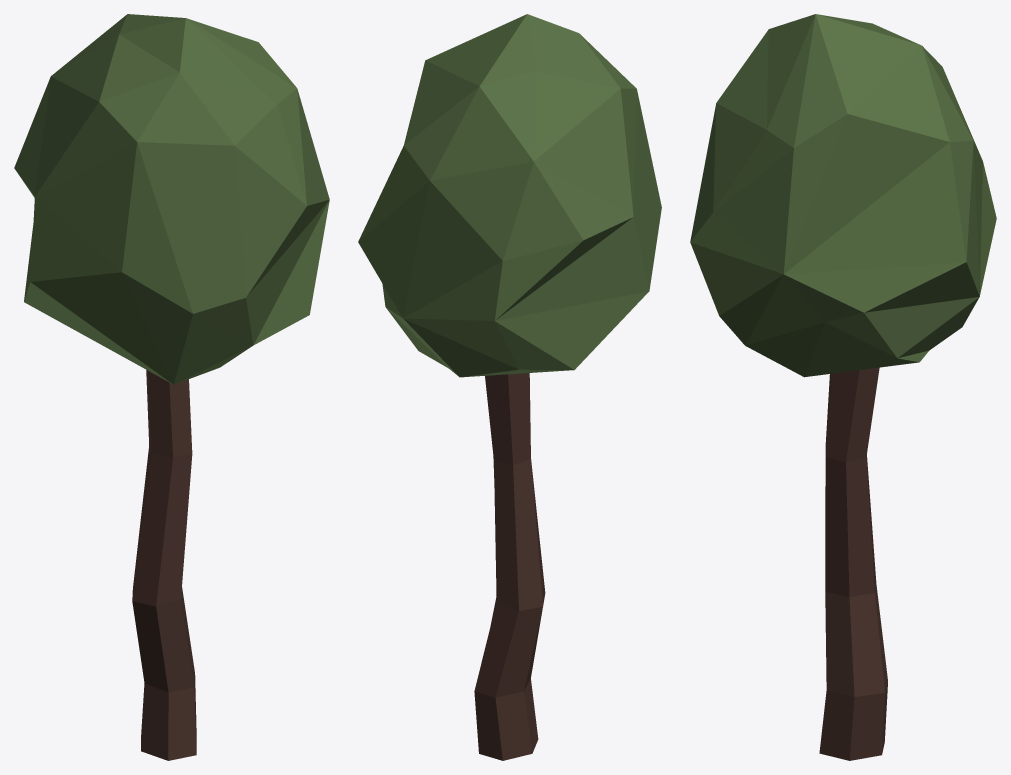
File: 3DMODELS_Enviro_ForestLevel_TallTree.fbx
3 renders of one model, left to right at view 1: azimuth 30°, elevation 25°; view 2: azimuth 150°, elevation 25°; view 3: azimuth 270°, elevation 25°, orthographic. The views are drawn at different scales.
Parts seen in each view (by area): view 1: pCylinder2; view 2: pCylinder2; view 3: pCylinder2.
Boxes of the visible parts, x1,y1,x2,y2 form: pCylinder2: (14,14,329,760); pCylinder2: (358,14,661,760); pCylinder2: (690,14,996,760).
Size of the model in its own units: 8.79 by 22.87 by 8.66.
